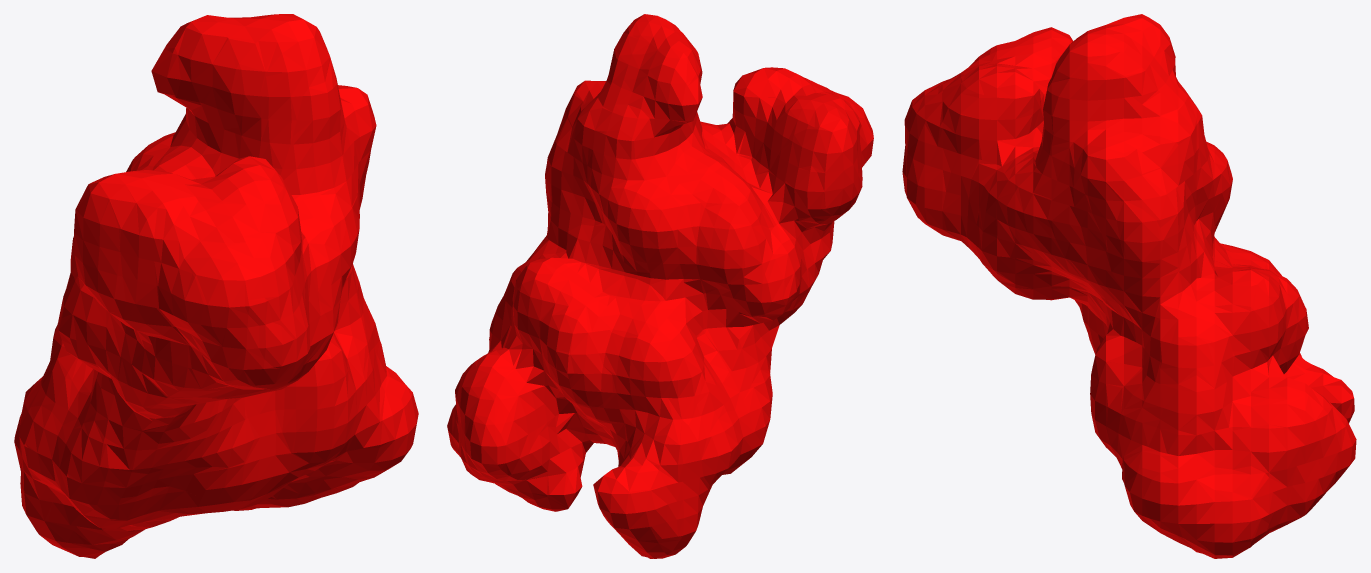
File: gmk_coarse.dae
3 views of the same model, side by side, from view 1: azimuth 30°, elevation 25°; view 2: azimuth 150°, elevation 25°; view 3: azimuth 270°, elevation 25° (orthographic). The views are drawn at different scales.
Parts seen in each view (by area): view 1: gmk; view 2: gmk; view 3: gmk.
Boxes of the visible parts, box(x1,y1,x2,y2) form: gmk: box(14, 14, 418, 558); gmk: box(447, 14, 873, 558); gmk: box(902, 14, 1356, 558).
Bounding box in the file's own units: 60.92 × 84.28 × 69.59.
